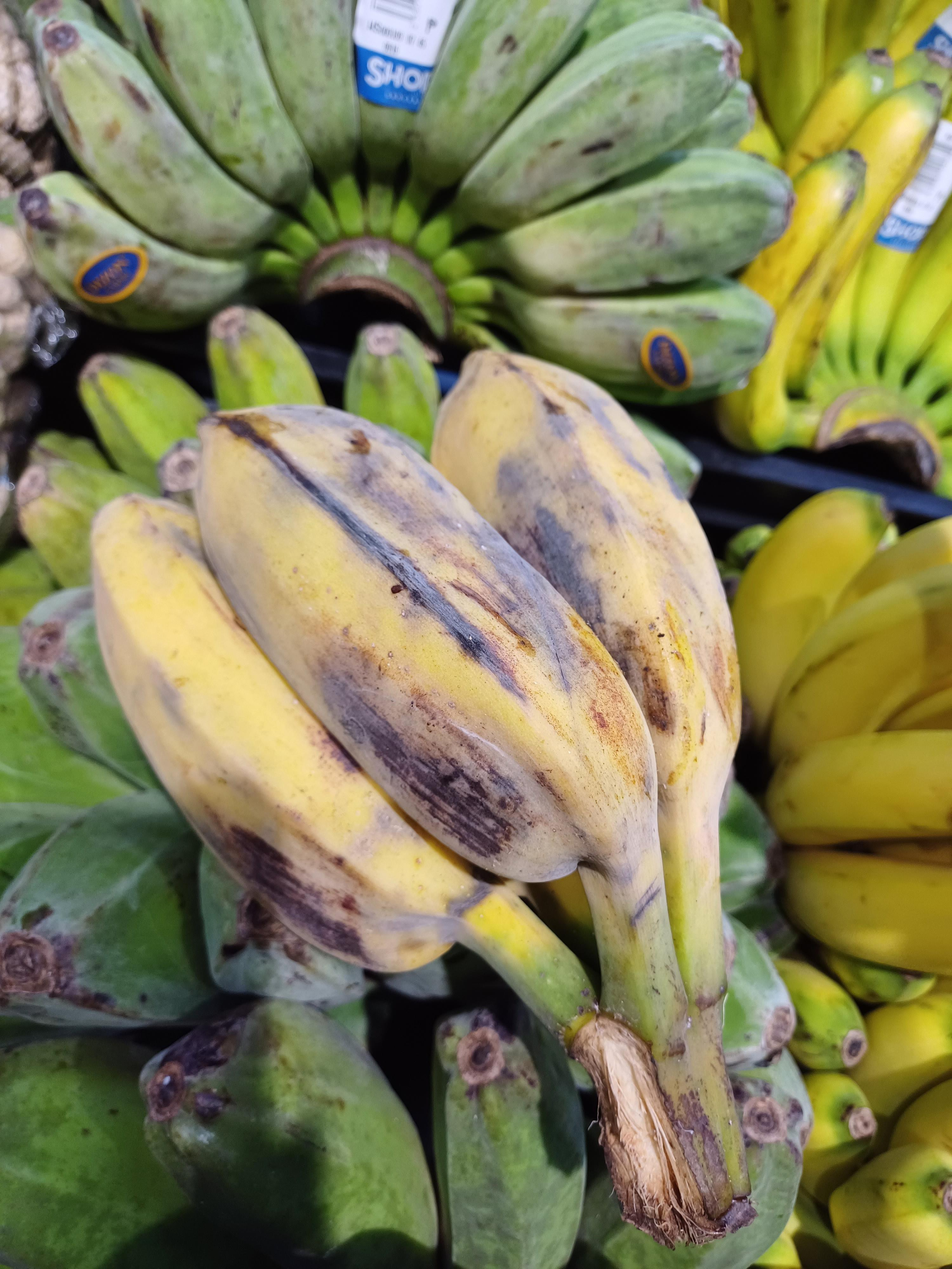ripe: (93, 350, 740, 971)
underripe: (15, 0, 795, 403)
